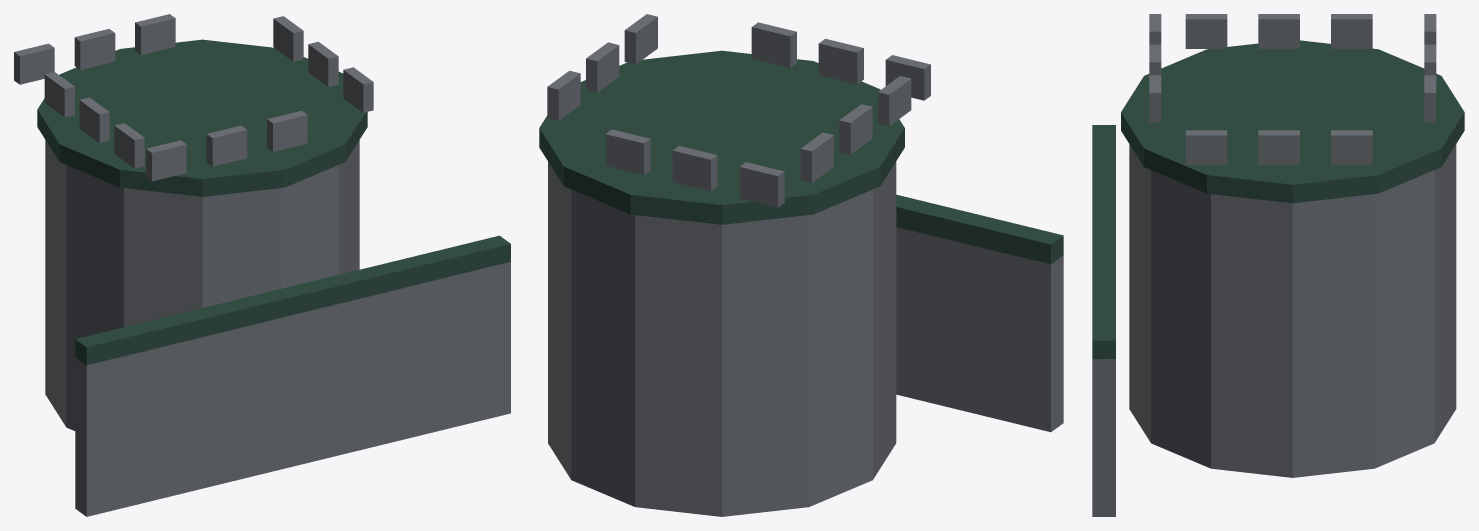
The model's file is Bastion.fbx.
3 renders of one model, left to right at view 1: azimuth 30°, elevation 25°; view 2: azimuth 150°, elevation 25°; view 3: azimuth 270°, elevation 25°, orthographic. The views are drawn at different scales.
Visible parts, largest first — view 1: Bastion; view 2: Bastion; view 3: Bastion.
Part boxes in pixels (x1=…): Bastion: x1=14, y1=14, x2=510, y2=516; Bastion: x1=539, y1=14, x2=1063, y2=516; Bastion: x1=1092, y1=14, x2=1464, y2=516.
Bounding box in the file's own units: 1122 × 812 × 819.
3 materials, 3 textured.
